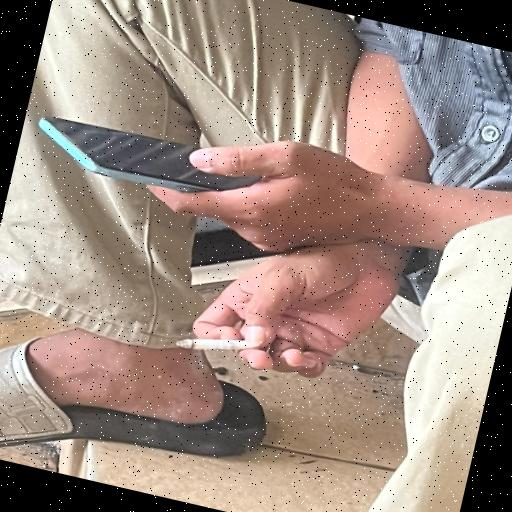terdeteksi pegang rokok: (148, 221, 357, 434)
